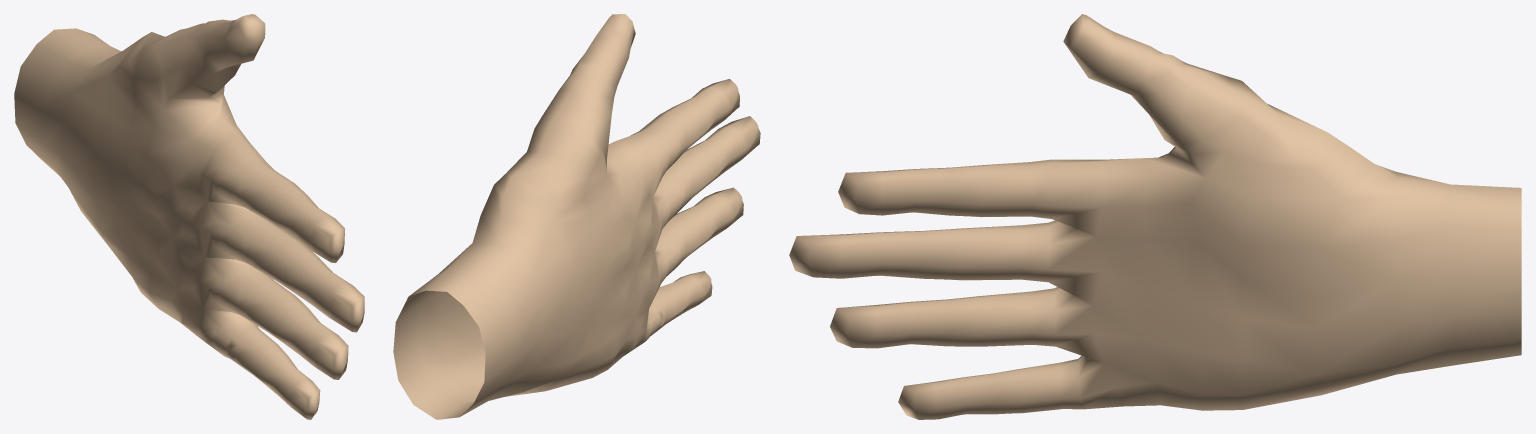
Rendered from right-hand-obj.obj.
The picture shows the model from 3 angles, left to right: view 1: azimuth 30°, elevation 25°; view 2: azimuth 150°, elevation 25°; view 3: azimuth 270°, elevation 25°; orthographic projection. The views are drawn at different scales.
Parts seen in each view (by area): view 1: polySurface9; view 2: polySurface9; view 3: polySurface9.
Boxes of the visible parts, x1,y1,x2,y2 form: polySurface9: (14, 14, 364, 419); polySurface9: (393, 14, 760, 419); polySurface9: (789, 14, 1521, 419).
Bounding box in the file's own units: 0.0569 × 0.1707 × 0.2791.
